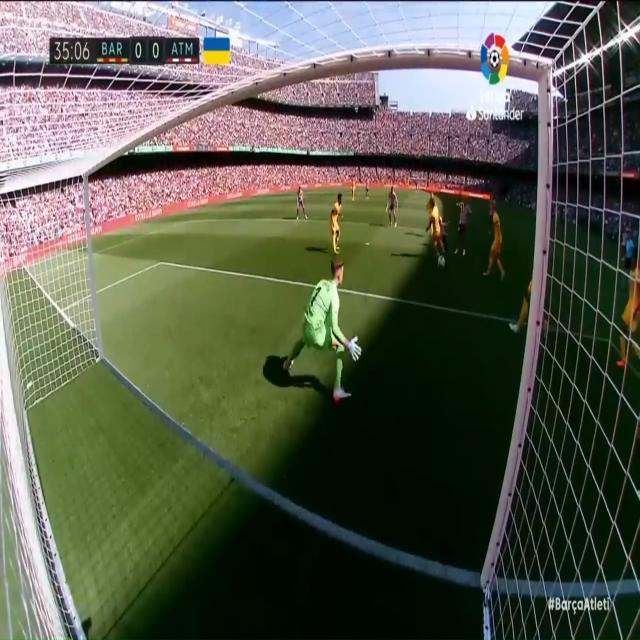ball: (434, 250, 449, 274)
goalkeeper: (281, 259, 364, 410)
player: (615, 249, 640, 374), (481, 202, 507, 290), (324, 187, 348, 255), (422, 196, 444, 261), (452, 189, 472, 260), (293, 182, 311, 227), (387, 185, 400, 234), (349, 177, 357, 204), (363, 176, 371, 200)
referee: (619, 222, 634, 284)
